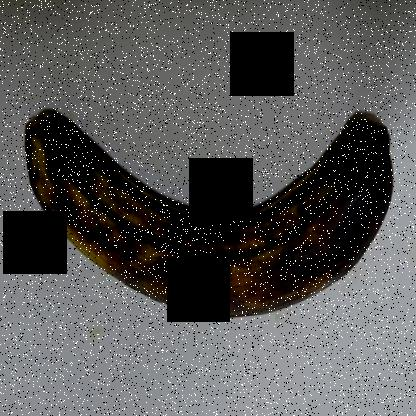overripe: (12, 100, 400, 332)
